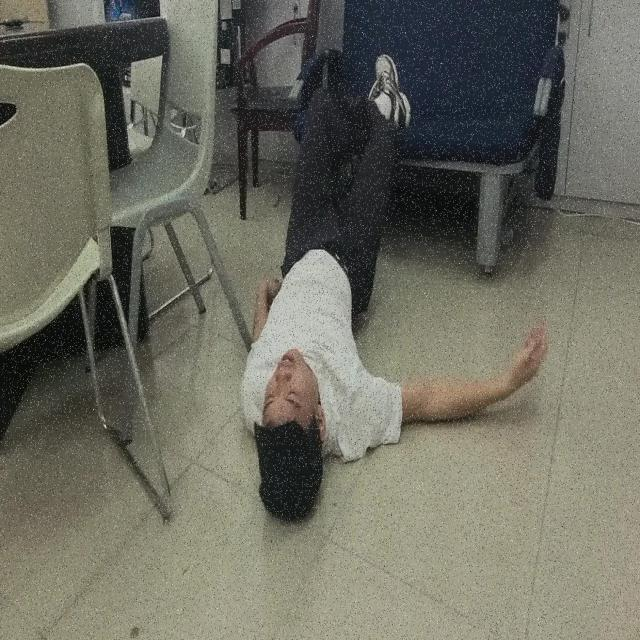fall: (238, 50, 548, 522)
